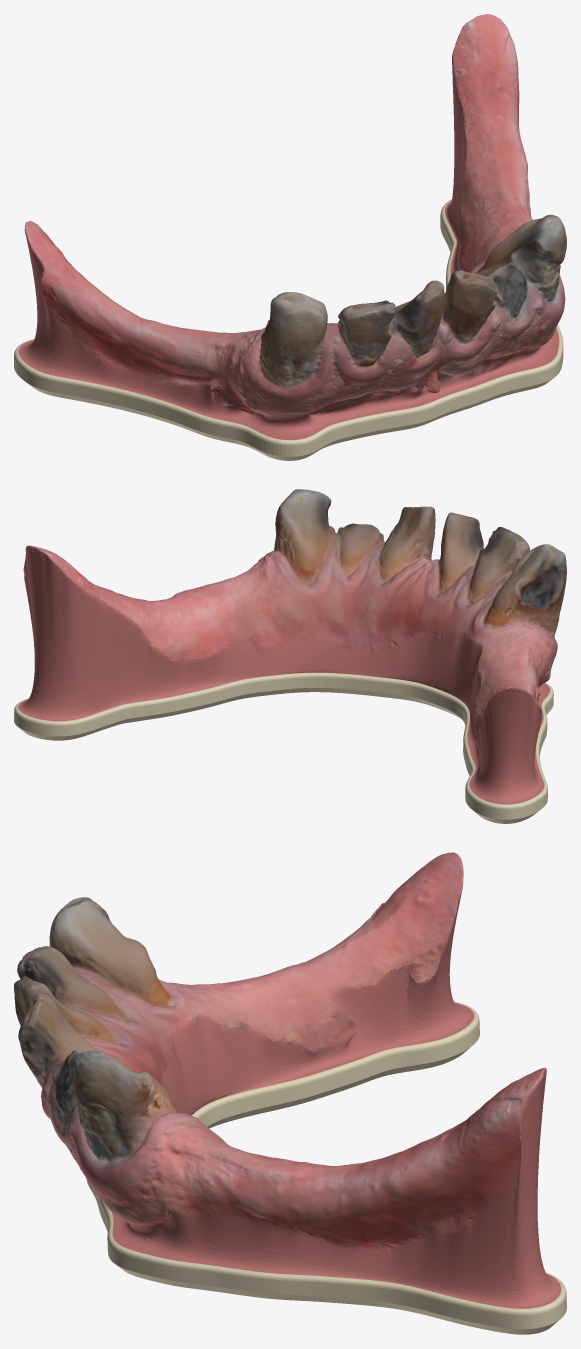
Rendered from lower-1.glb.
3 renders of one model, top to bottom at view 1: azimuth 30°, elevation 25°; view 2: azimuth 150°, elevation 25°; view 3: azimuth 270°, elevation 25°, orthographic. The views are drawn at different scales.
Parts seen in each view (by area): view 1: lower-1; view 2: lower-1; view 3: lower-1.
Boxes of the visible parts, box(x1,y1,x2,y2) form: lower-1: box(14, 14, 566, 460); lower-1: box(14, 489, 566, 823); lower-1: box(14, 852, 566, 1334).
Size of the model in its own units: 68.38 by 26.64 by 50.01.
